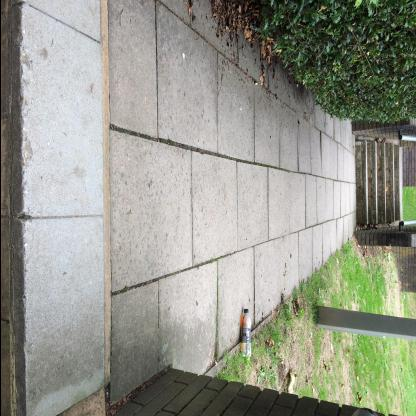plastik: (241, 309, 252, 359)
